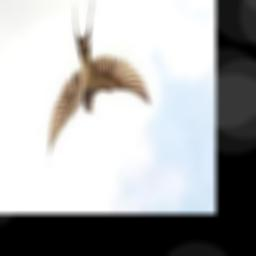Swallow: (47, 0, 149, 156)
